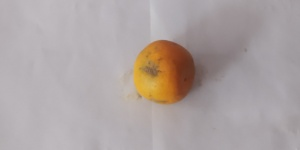BAD: (133, 40, 196, 106)
